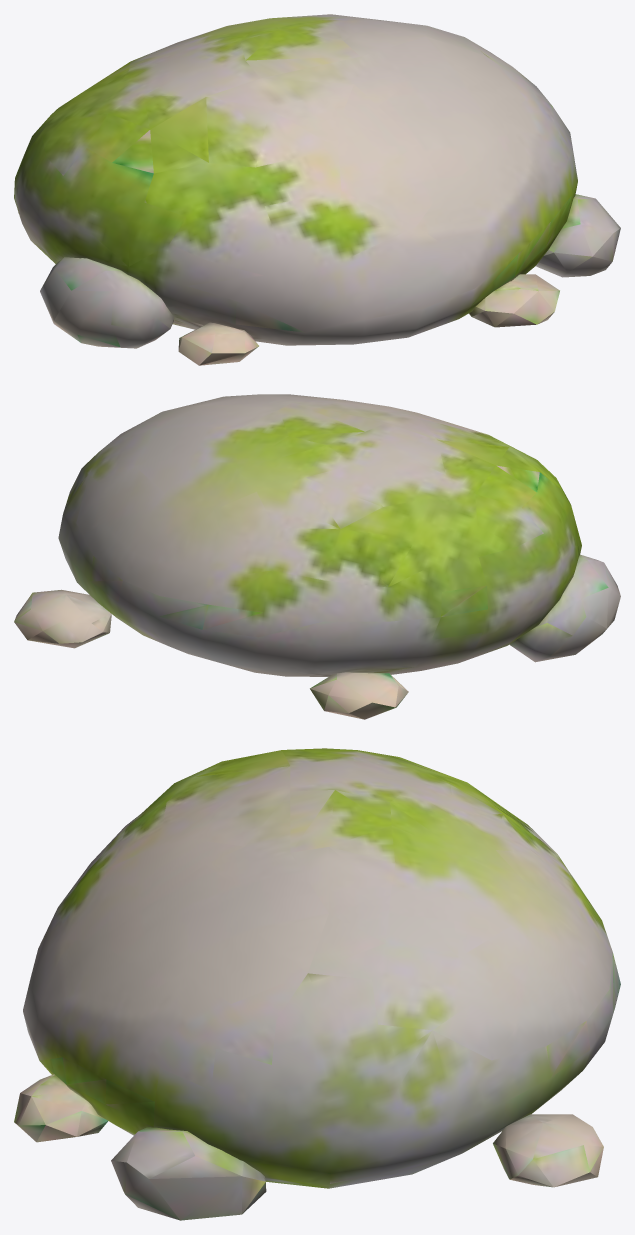
File: roca_rio_2_800.glb
3 renders of one model, top to bottom at view 1: azimuth 30°, elevation 25°; view 2: azimuth 150°, elevation 25°; view 3: azimuth 270°, elevation 25°, orthographic. The views are drawn at different scales.
Visible parts, largest first — view 1: roca_rio_2_malla; view 2: roca_rio_2_malla; view 3: roca_rio_2_malla.
Part boxes in pixels (left/top/right/bottom): roca_rio_2_malla: left=14, top=14, right=620, bottom=365; roca_rio_2_malla: left=14, top=394, right=620, bottom=719; roca_rio_2_malla: left=14, top=748, right=620, bottom=1220.
Size of the model in its own units: 0.3635 by 0.1635 by 0.3078.
Materials: 1 (1 with a texture image).
